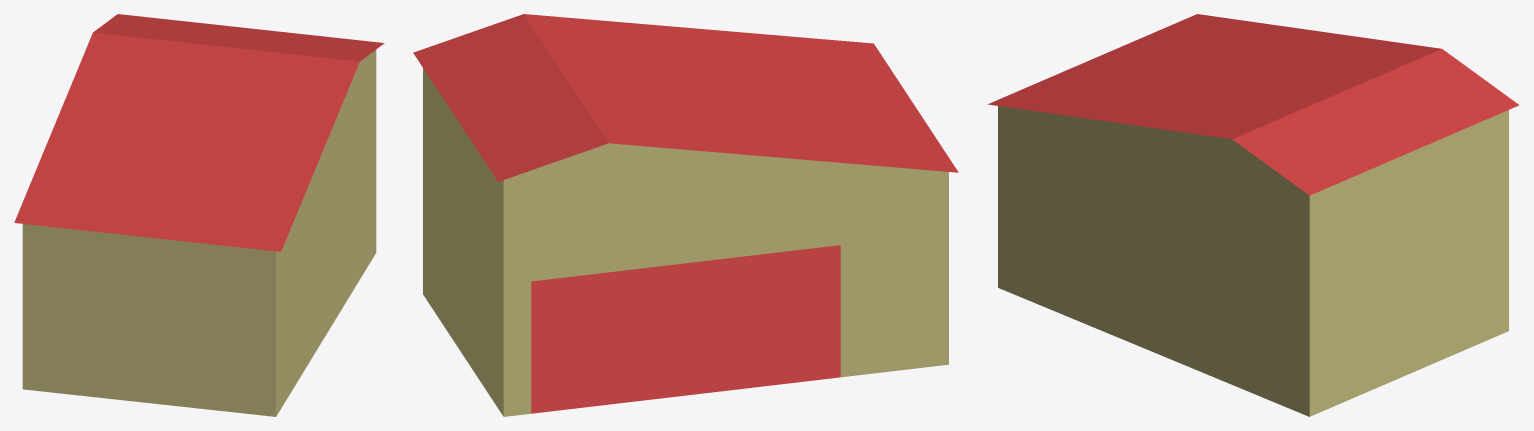
3 renders of one model, left to right at view 1: azimuth 30°, elevation 25°; view 2: azimuth 150°, elevation 25°; view 3: azimuth 270°, elevation 25°, orthographic. The views are drawn at different scales.
Size of the model in its own units: 17.54 by 17.61 by 9.12.
